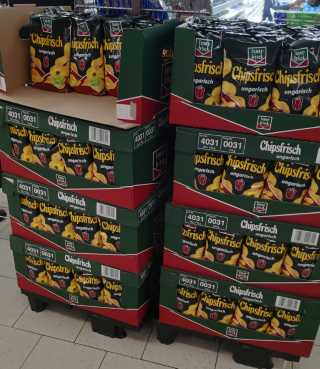chipsfrisch: (223, 33, 272, 110), (271, 36, 319, 114), (29, 14, 70, 92), (70, 14, 103, 96), (192, 26, 223, 106), (264, 156, 310, 203), (223, 155, 264, 202), (240, 235, 284, 272), (195, 291, 234, 323), (284, 241, 317, 278), (58, 139, 90, 177), (207, 229, 240, 265), (236, 299, 271, 332), (39, 202, 69, 237), (31, 130, 56, 170)
